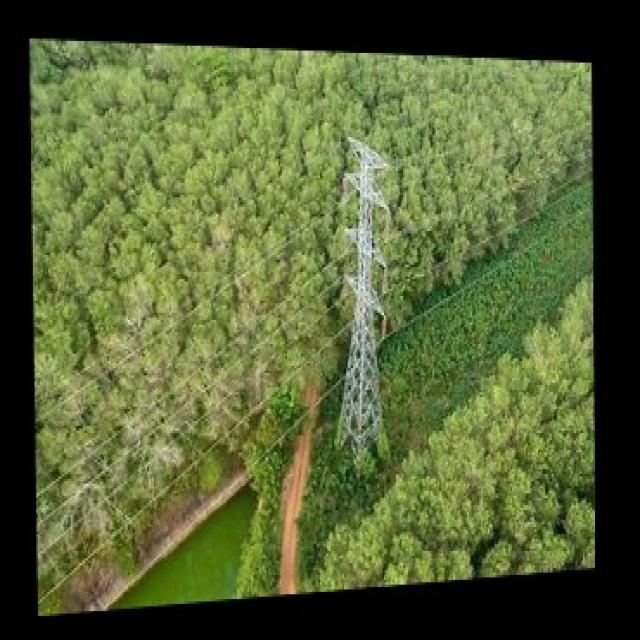utility poles: (325, 121, 407, 487)
